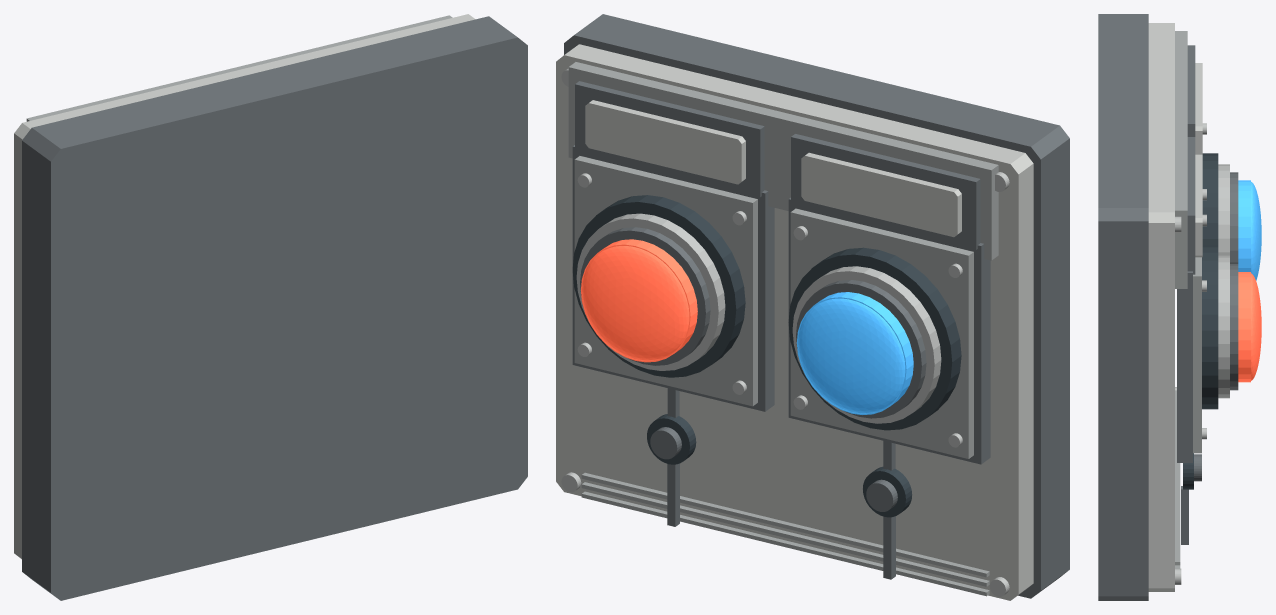
Rendered from IKILI_KIRMIZI_MAVI_GOSTERGE_03_ADAY.glb.
The picture shows the model from 3 angles, left to right: view 1: azimuth 30°, elevation 25°; view 2: azimuth 150°, elevation 25°; view 3: azimuth 270°, elevation 25°; orthographic projection. The views are drawn at different scales.
Parts seen in each view (by area): view 1: Rear_mount, Front_enclosure, Upper_status_plate; view 2: Front_enclosure, Rear_mount, Indicator_0_metal_base, Indicator_1_metal_base, Upper_status_plate, Indicator_1_blue_glass, Indicator_0_red_glass, Indicator_0_upper_status, Indicator_1_upper_status, Indicator_1_outer_rim, Indicator_0_outer_rim, Indicator_0_upper_inset (+18 smaller); view 3: Rear_mount, Front_enclosure, Upper_status_plate, Indicator_0_square_frame, Indicator_0_outer_rim, Indicator_0_metal_base, Indicator_0_bezel, Indicator_1_outer_rim, Indicator_0_red_lens, Indicator_0_upper_inset, Indicator_1_blue_lens, Indicator_0_dark_gasket (+10 smaller).
Part boxes in pixels (left/top/right/bottom): Rear_mount: left=22, top=16, right=527, bottom=600; Front_enclosure: left=14, top=14, right=475, bottom=559; Upper_status_plate: left=26, top=15, right=452, bottom=121; Front_enclosure: left=556, top=44, right=1033, bottom=600; Rear_mount: left=564, top=14, right=1069, bottom=598; Indicator_0_metal_base: left=574, top=156, right=757, bottom=406; Indicator_1_metal_base: left=790, top=208, right=973, bottom=458; Upper_status_plate: left=568, top=62, right=998, bottom=260; Indicator_1_blue_glass: left=797, top=298, right=905, bottom=413; Indicator_0_red_glass: left=582, top=246, right=689, bottom=361; Indicator_0_upper_status: left=585, top=100, right=745, bottom=184; Indicator_1_upper_status: left=801, top=152, right=961, bottom=237; Indicator_1_outer_rim: left=788, top=247, right=961, bottom=430; Indicator_0_outer_rim: left=572, top=195, right=745, bottom=377; Indicator_0_upper_inset: left=575, top=81, right=764, bottom=197; Rear_mount: left=1098, top=14, right=1148, bottom=600; Front_enclosure: left=1148, top=23, right=1174, bottom=591; Upper_status_plate: left=1175, top=31, right=1187, bottom=288; Indicator_0_square_frame: left=1177, top=271, right=1192, bottom=462; Indicator_0_outer_rim: left=1202, top=245, right=1218, bottom=409; Indicator_0_metal_base: left=1193, top=257, right=1201, bottom=453; Indicator_0_bezel: left=1218, top=255, right=1229, bottom=398; Indicator_1_outer_rim: left=1202, top=153, right=1218, bottom=244; Indicator_0_red_lens: left=1238, top=272, right=1250, bottom=382; Indicator_0_upper_inset: left=1187, top=137, right=1195, bottom=274; Indicator_1_blue_lens: left=1238, top=180, right=1250, bottom=271; Indicator_0_dark_gasket: left=1230, top=264, right=1238, bottom=390.
Bounding box in the file's own units: 2.65 × 2.4 × 0.905.
